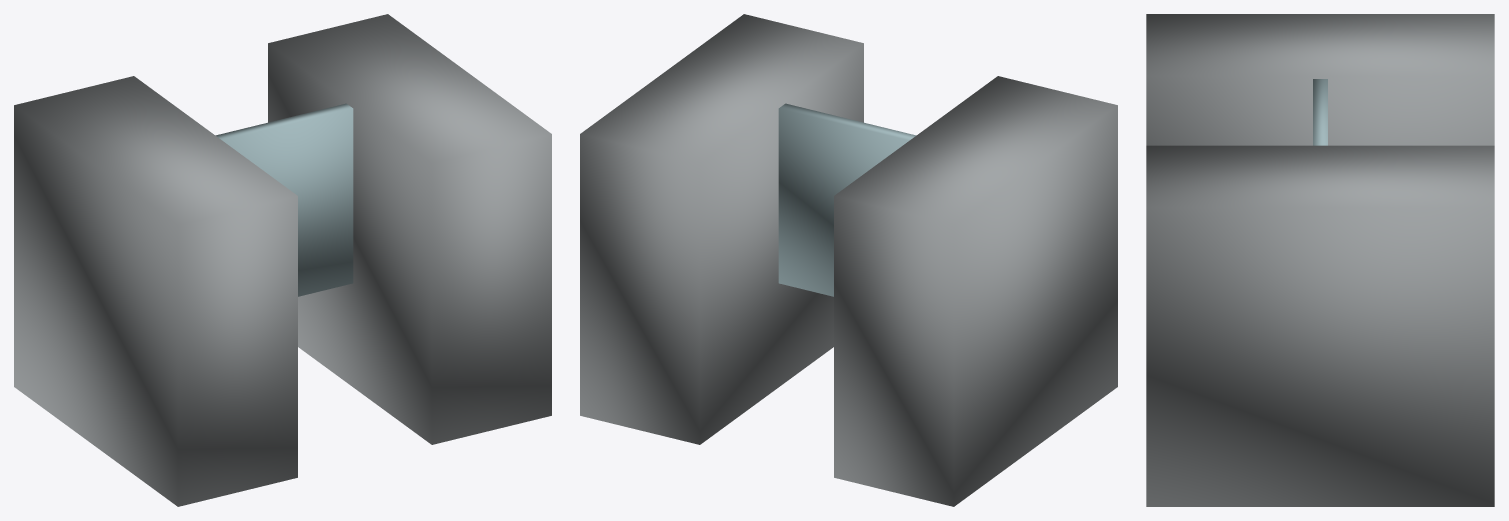
Rendered from fare_gate__squat.glb.
3 renders of one model, left to right at view 1: azimuth 30°, elevation 25°; view 2: azimuth 150°, elevation 25°; view 3: azimuth 270°, elevation 25°, orthographic. The views are drawn at different scales.
Visible parts, largest first — view 1: world; view 2: world; view 3: world.
Boxes of the visible parts, x1=… form: world: x1=14, y1=14, x2=551, y2=506; world: x1=580, y1=14, x2=1117, y2=506; world: x1=1146, y1=14, x2=1494, y2=506.
Bounding box in the file's own units: 1.17 × 0.84 × 0.8856.
